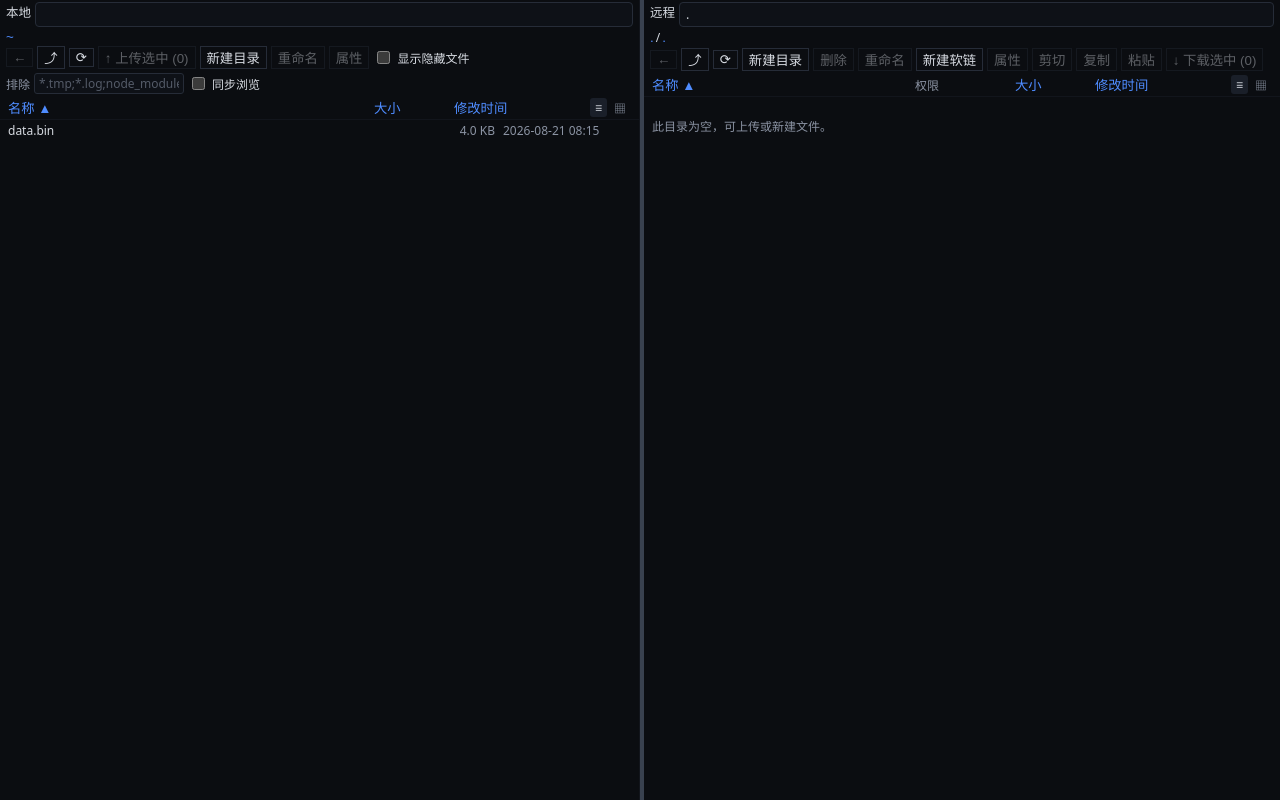
Test: SftpPane 属性对话框与新建软链（M4a） › 本地侧属性走 local_stat_entry（同一呈现结构，不同来源）
The image size is (1280, 800).
What coordinates should you click on to do the following:
click the option "data.bin 4.0 KB 2026-08-21 08:15"
I would click on:
 (31, 130)
Its box is [0,120,639,141].
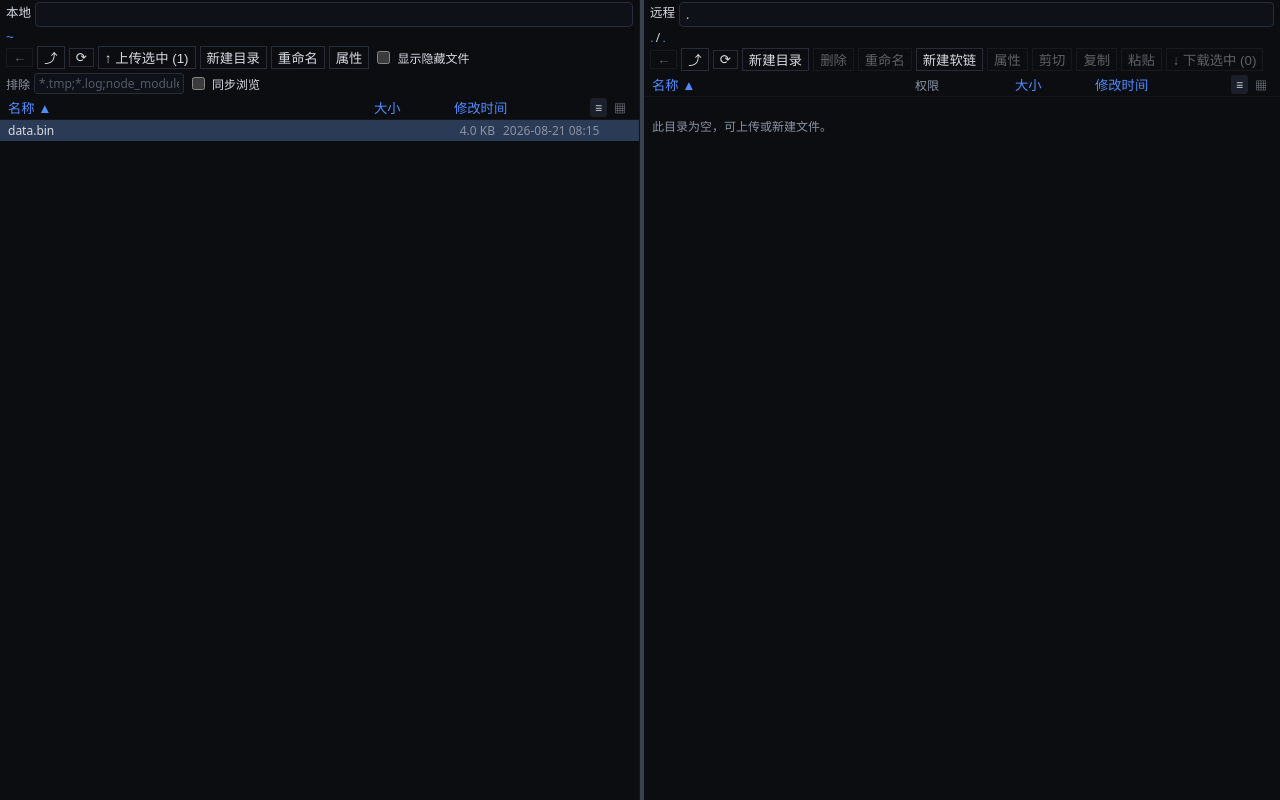
What coordinates should you click on to do the following:
click the button with test id "local-props"
I would click on:
 (349, 58)
Its box is [329,46,370,69].
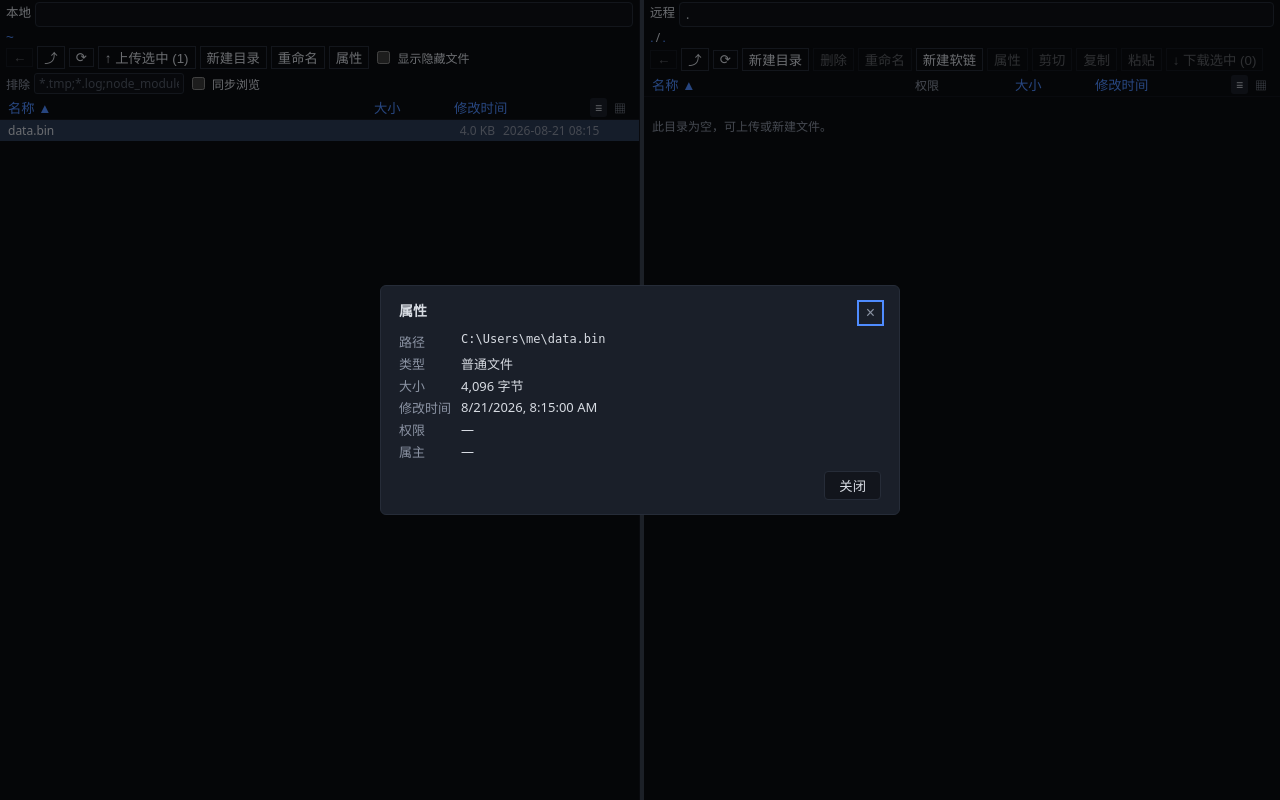
Expected: the element with test id "props-body" is shown, [399,332,606,461]
Expected: the text with test id "props-mode" reads "—", [461,420,474,438]
Expected: the text with test id "props-type" reads "普通文件", [461,355,513,373]
